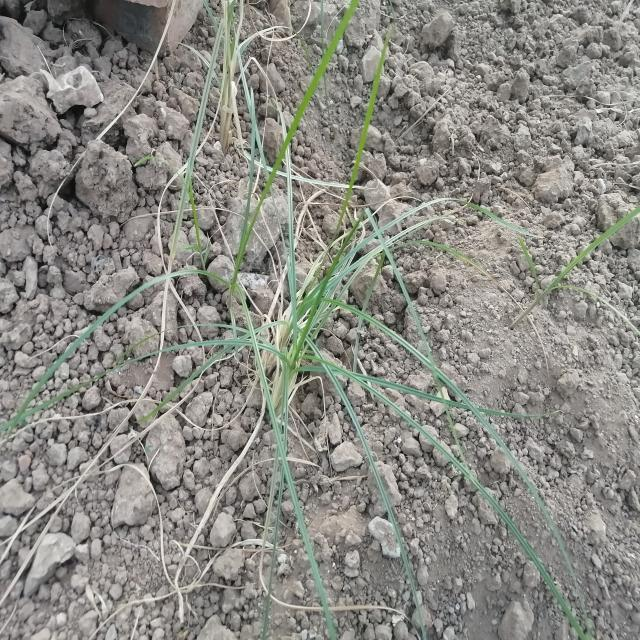sedge: (166, 49, 527, 582)
